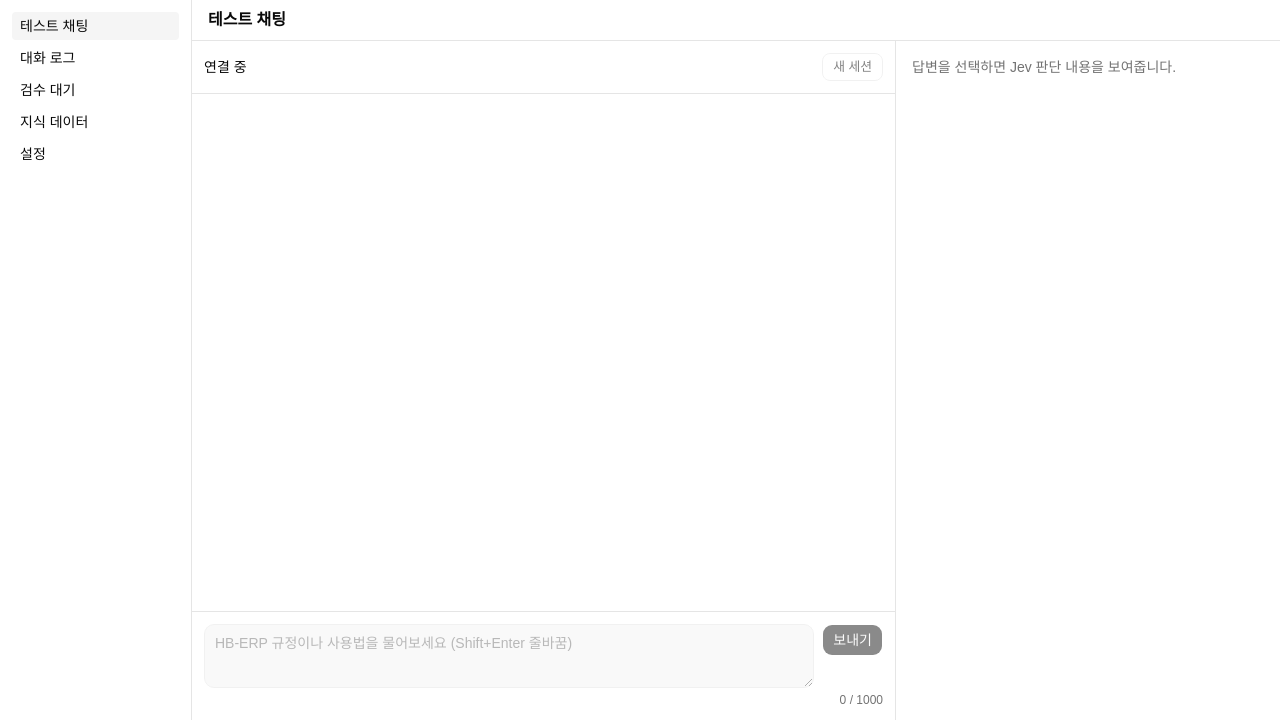
Test: App 셸 › 사이드바로 화면을 전환해도 채팅 연결(소켓)은 하나로 유지된다 [U9]
Click the button "테스트 채팅".
click(96, 26)  # box [12,12,179,40]
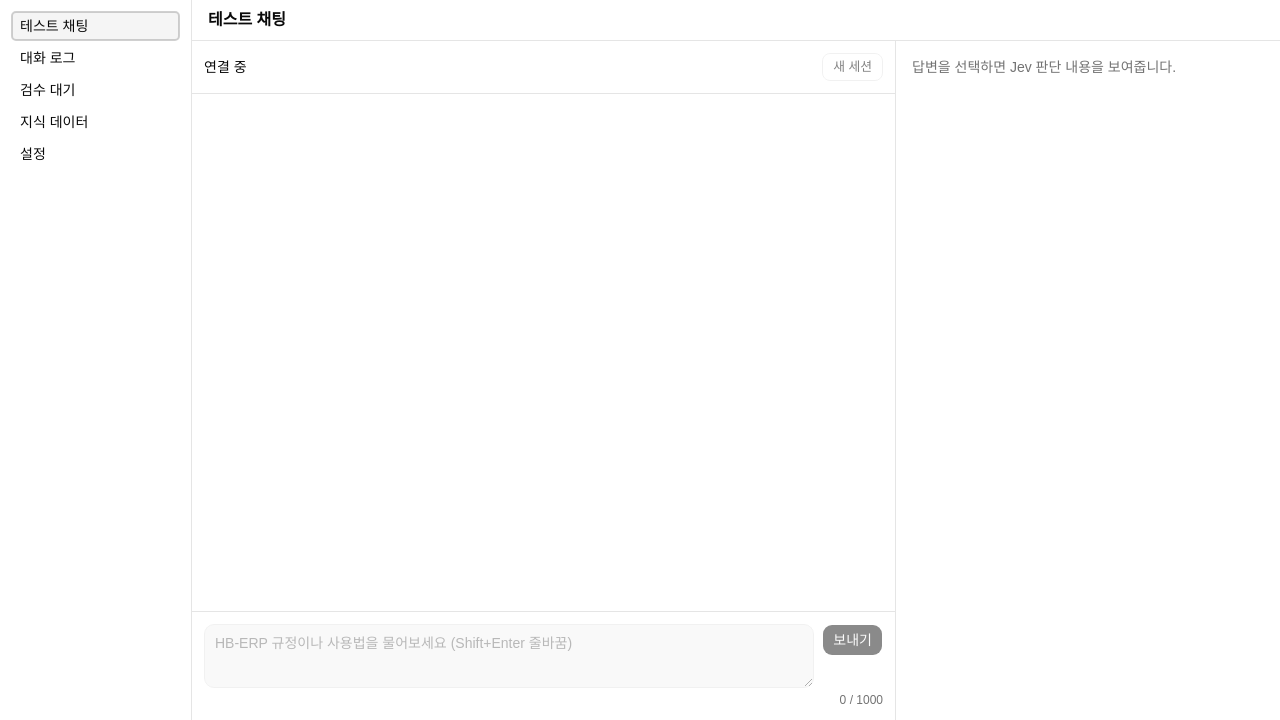
Expected: the heading reads "테스트 채팅", [208,11,286,28]
Click the button "대화 로그".
click(96, 58)  # box [12,44,179,72]
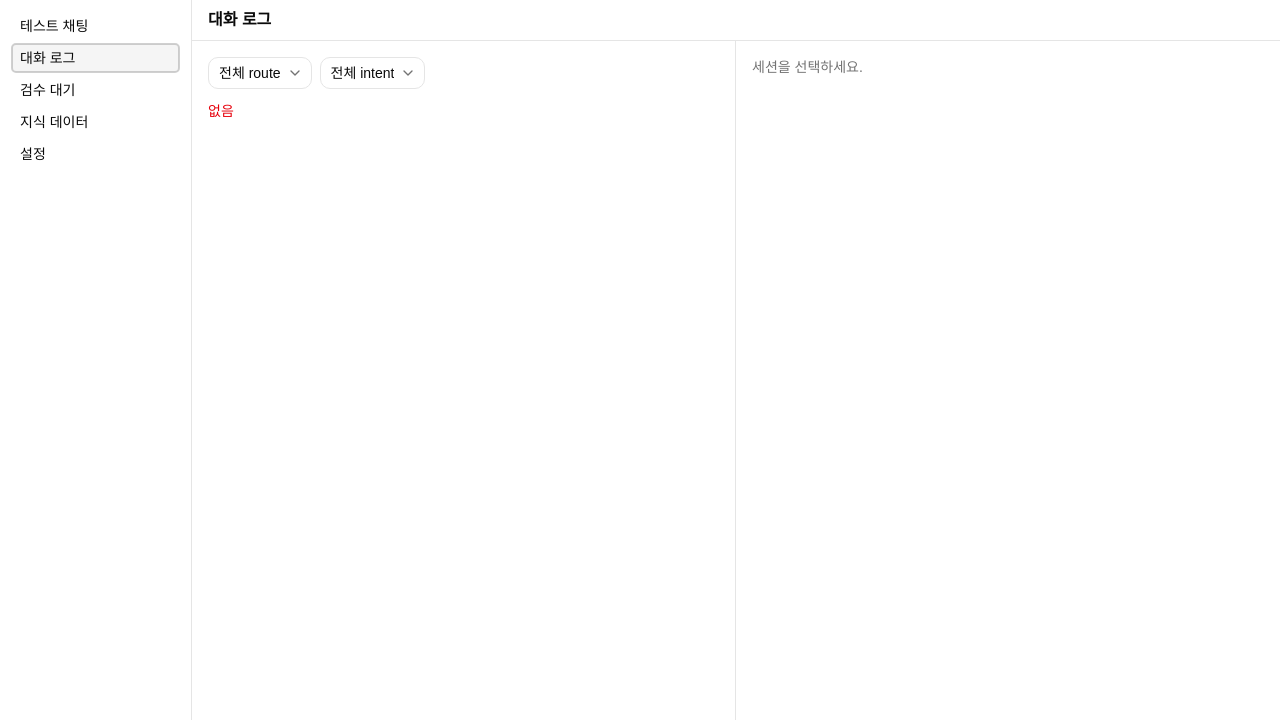
Expected: the heading reads "대화 로그", [208,11,271,28]
Click the button "검수 대기".
click(96, 90)  # box [12,76,179,104]
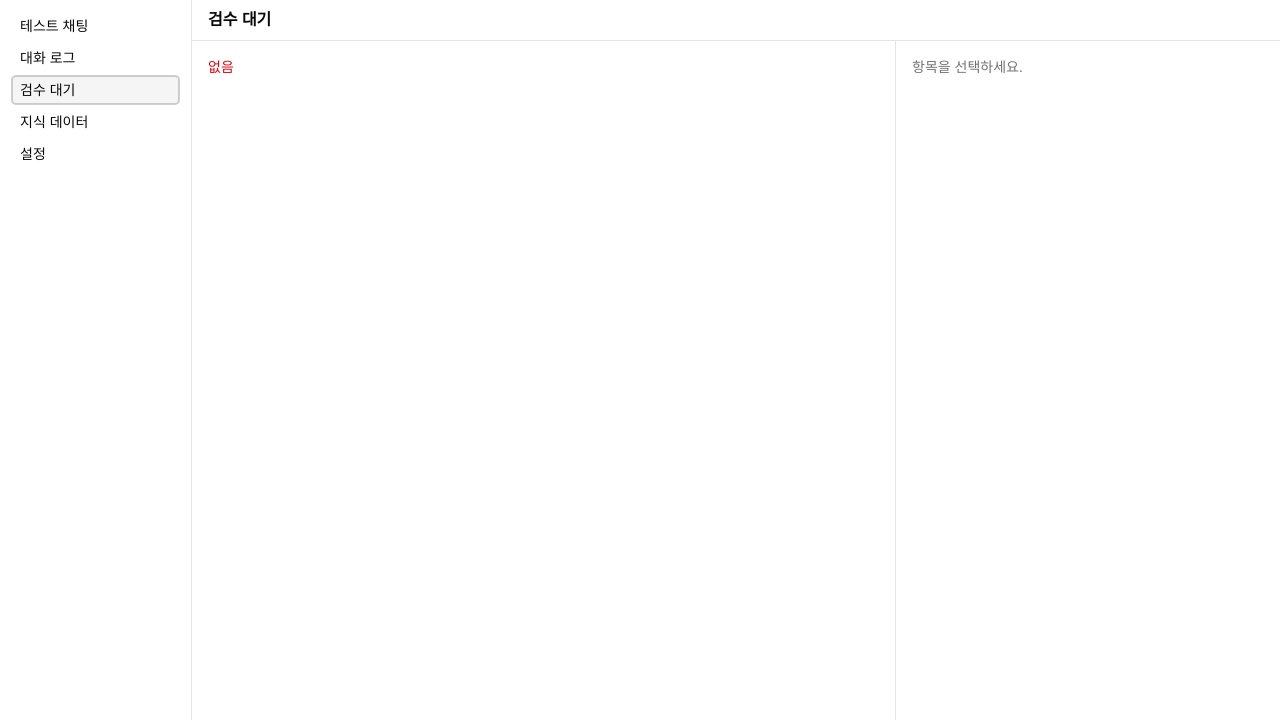
Expected: the heading reads "검수 대기", [208,11,271,28]
Click the button "지식 데이터".
click(96, 122)  # box [12,108,179,136]
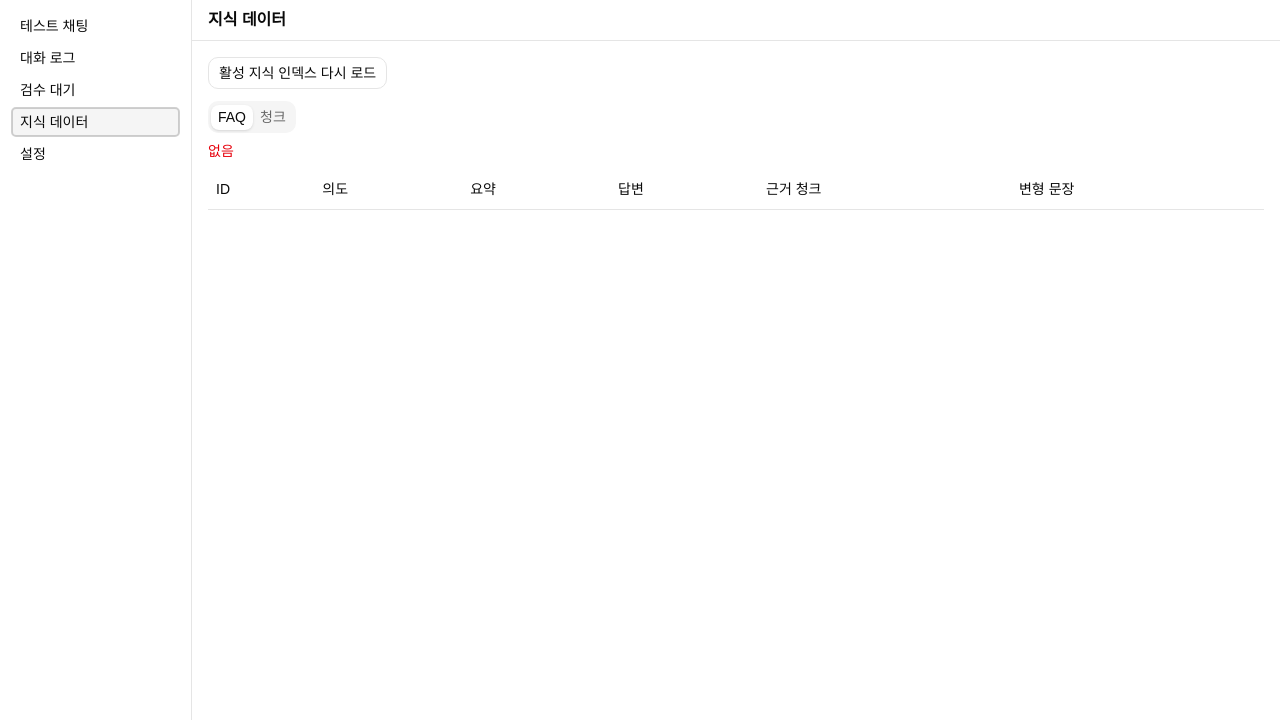
Expected: the heading reads "지식 데이터", [208,11,286,28]
Click the button "설정".
click(96, 154)  # box [12,140,179,168]
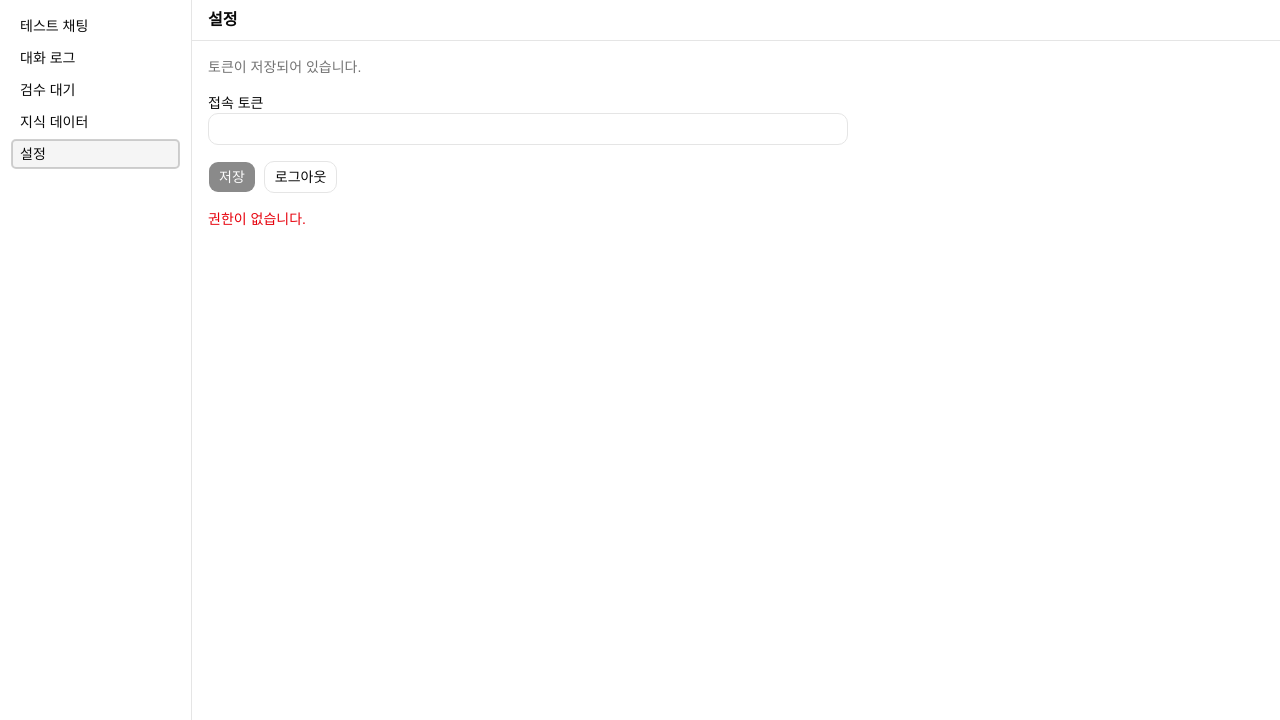
Expected: the heading reads "설정", [208,11,238,28]
Click the button "테스트 채팅".
click(96, 26)  # box [12,12,179,40]
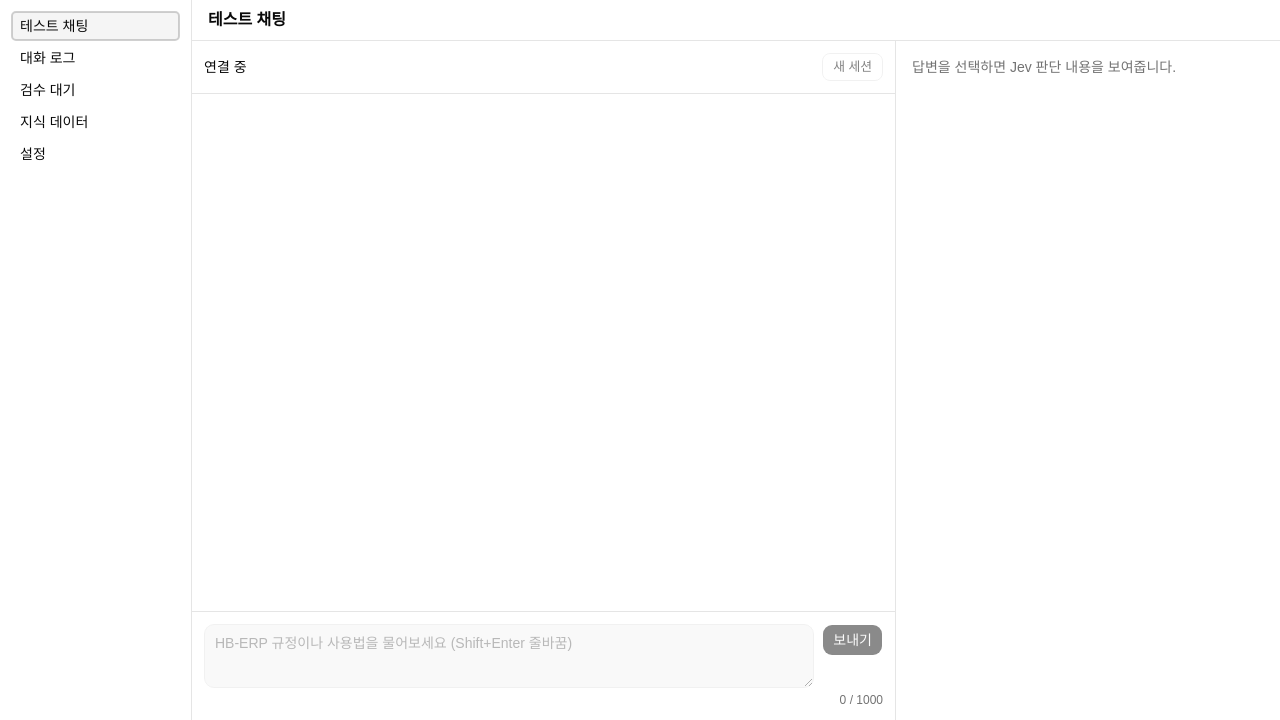
Expected: the heading reads "테스트 채팅", [208,11,286,28]
